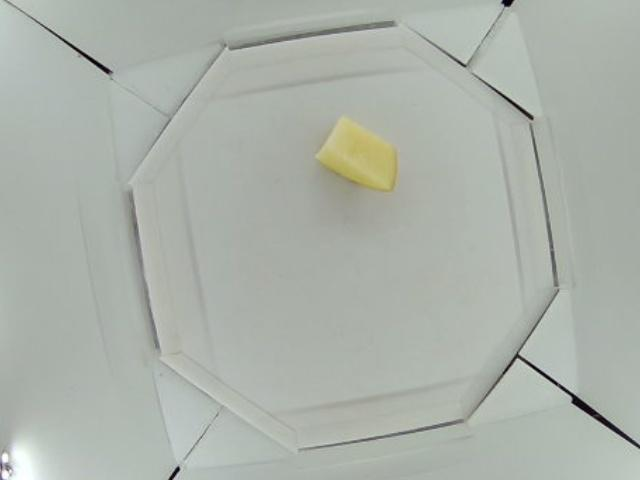Potato: (318, 119, 402, 192)
